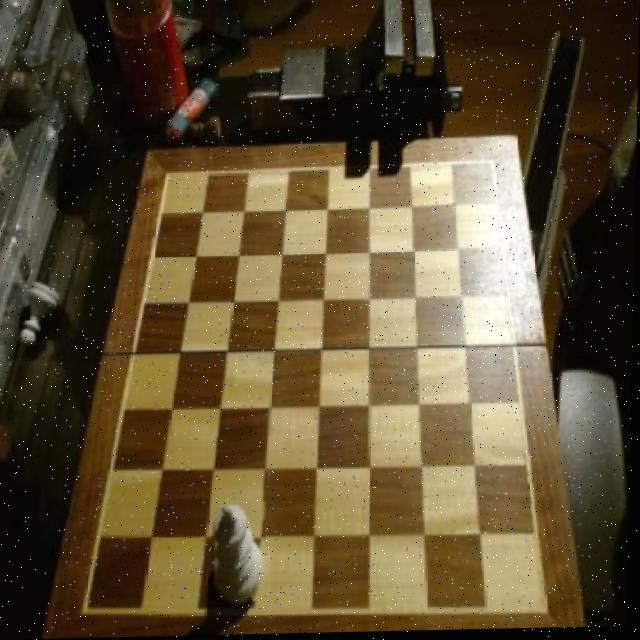white-bishop: (211, 501, 270, 602)
